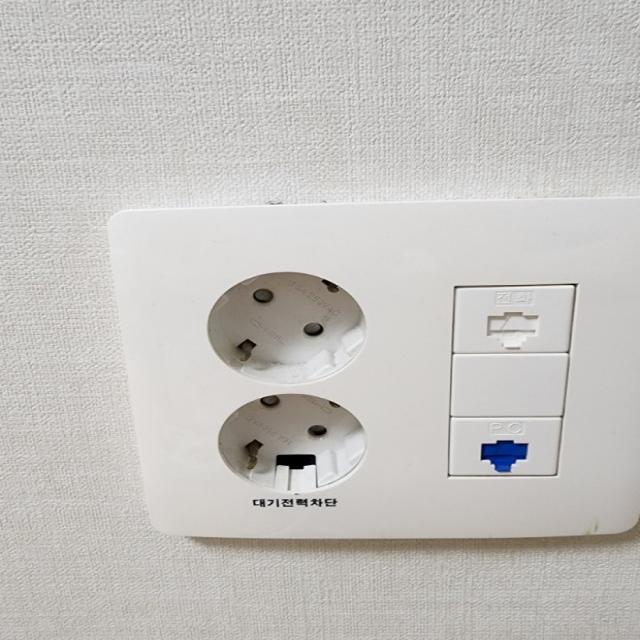typeb: (67, 189, 410, 550)
